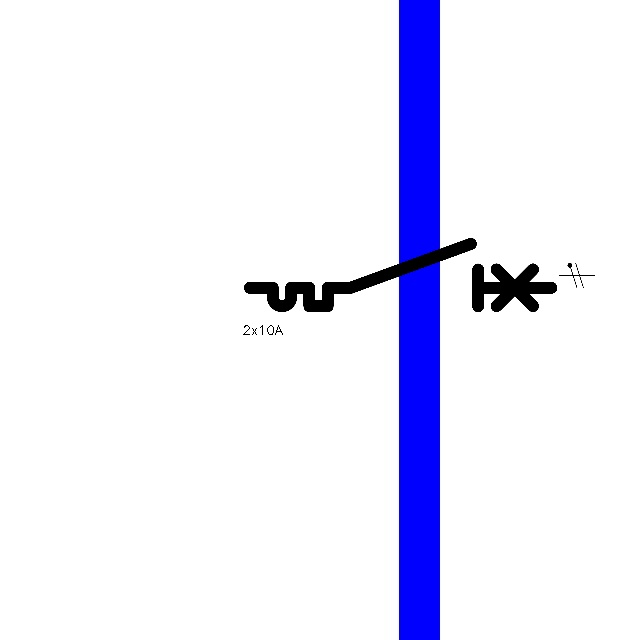interruptor_termomagnetico: (242, 236, 559, 314)
